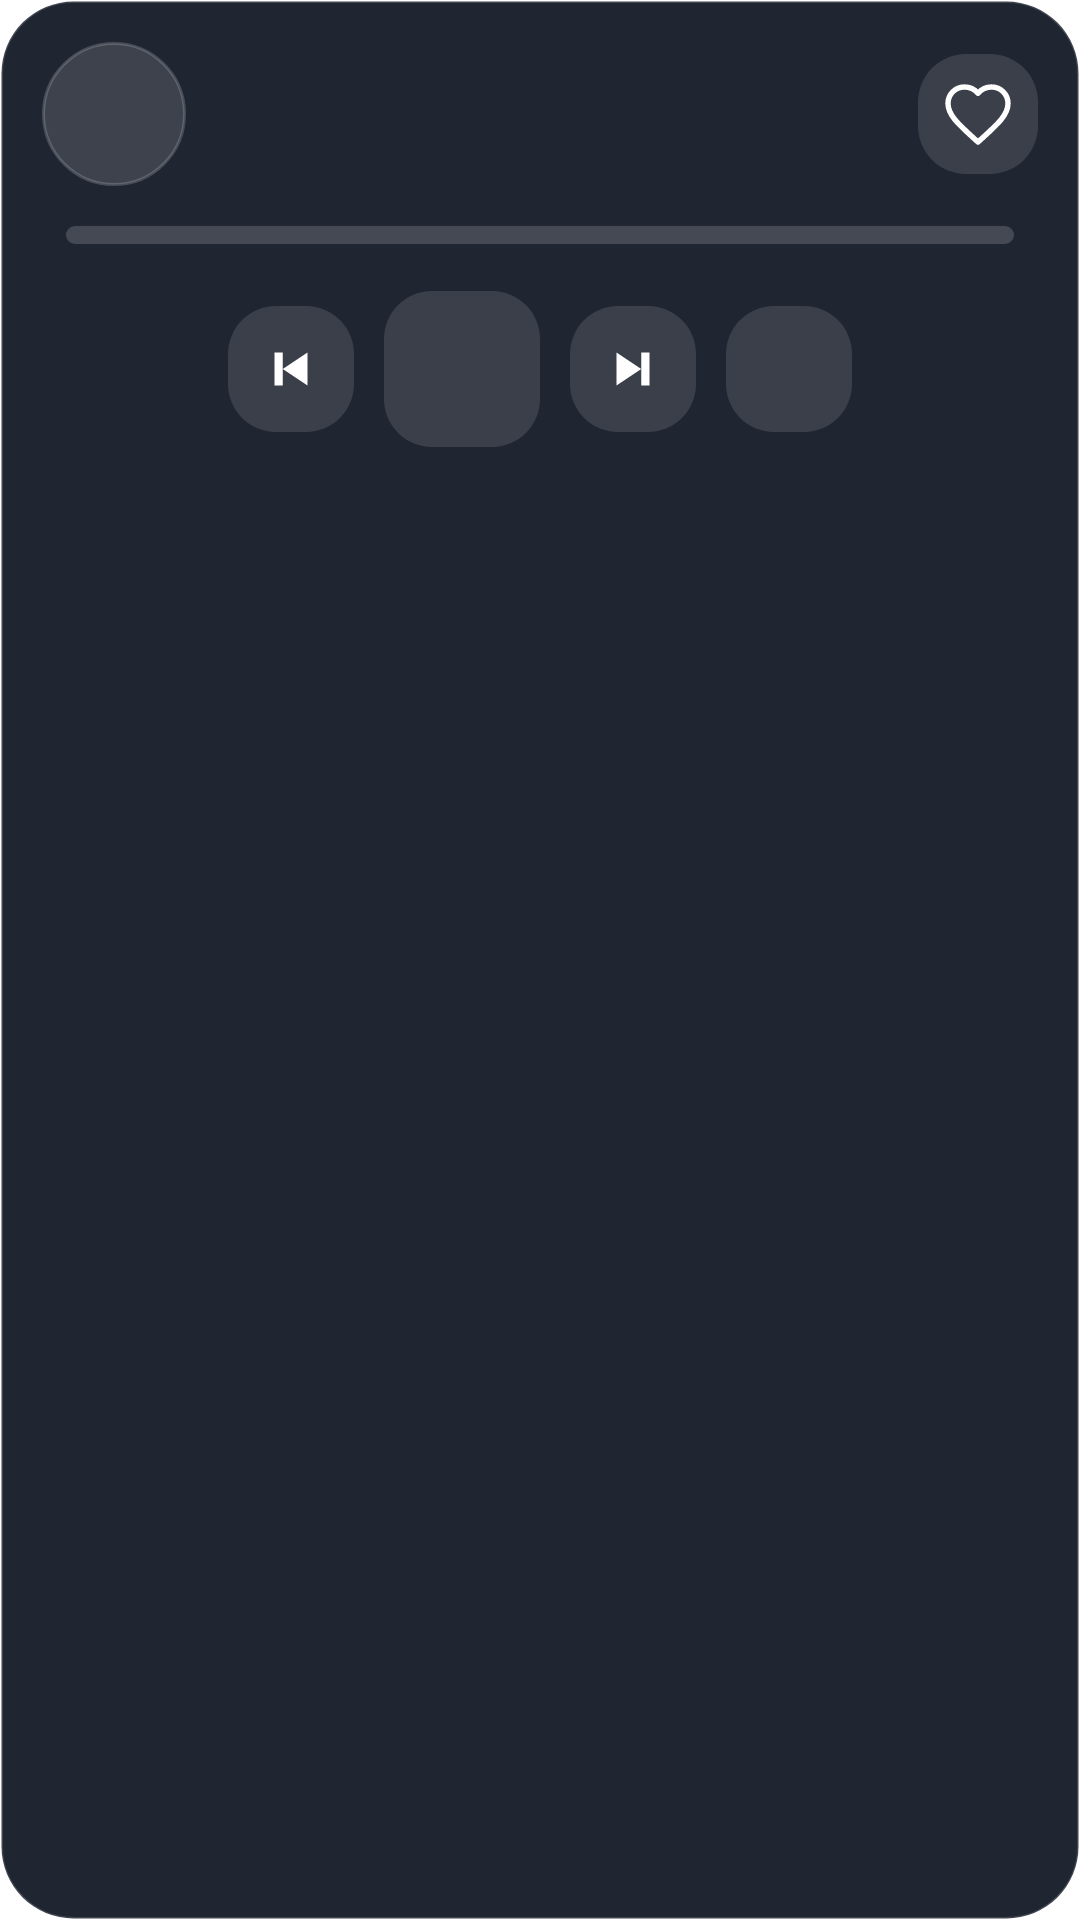

Icons on this 1080 × 1920 Android screen, each with the point to tap as [x,y]:
notification favorite: [978,114]
notification next: [633,369]
notification previous: [291,369]
